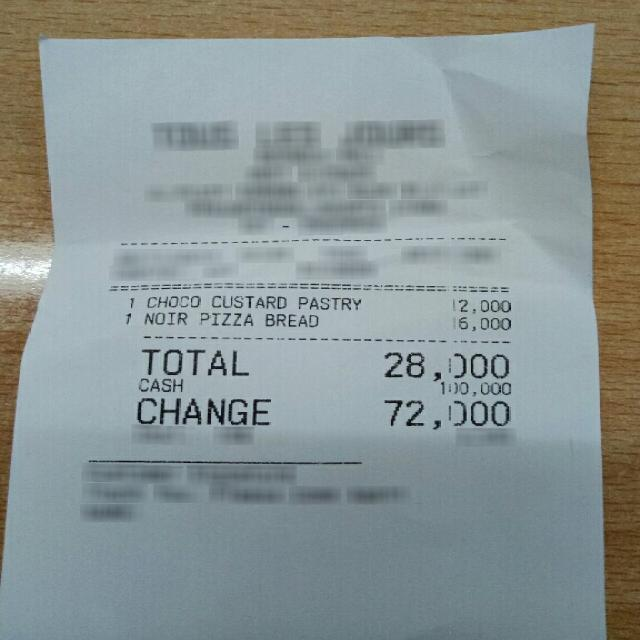kertas: (4, 27, 605, 640)
